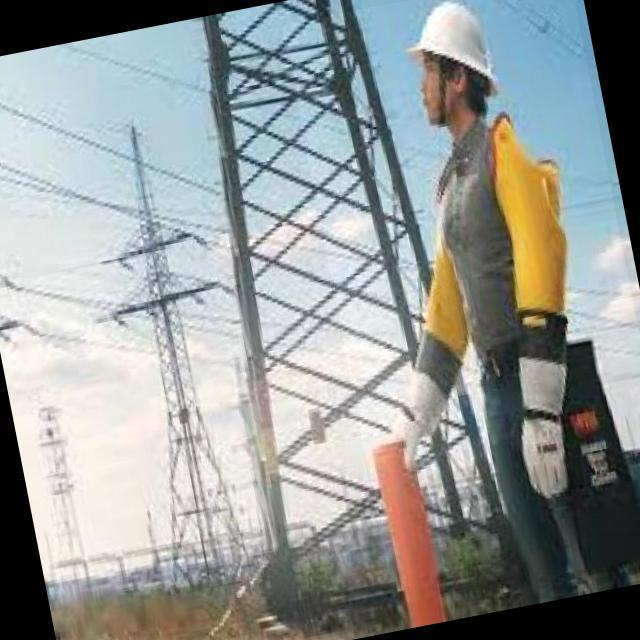Gloves: (362, 323, 487, 492), (496, 304, 600, 503)
Helmet: (404, 0, 507, 116)
Person: (334, 0, 636, 610)
no-helmet: (408, 110, 576, 390)
